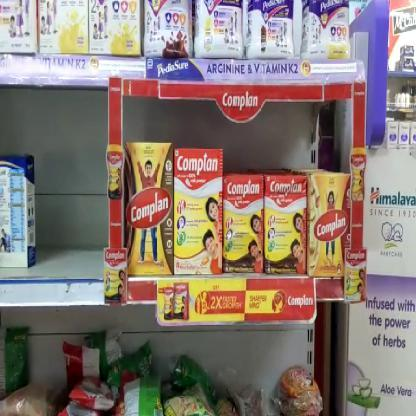Complan Kesar Badam: (310, 173, 352, 274)
Complan Royal Chocolate: (223, 174, 265, 273)
